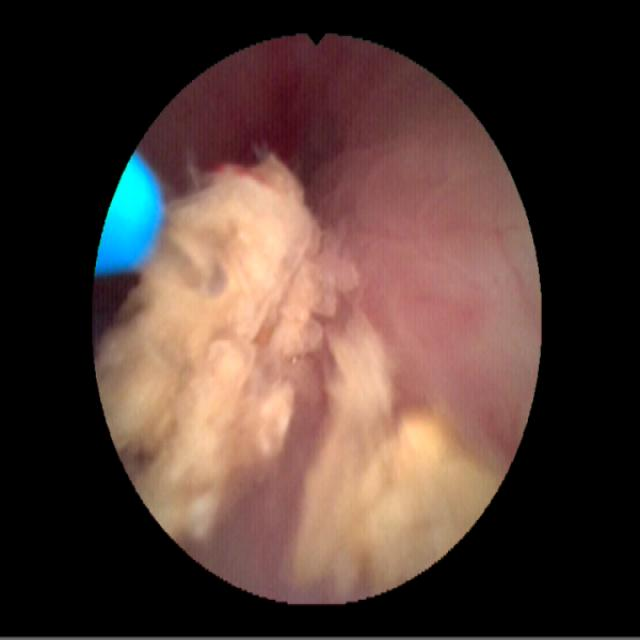fiber: (97, 158, 159, 272)
stone: (98, 157, 355, 538), (297, 328, 495, 592)
tissue: (155, 38, 535, 448)
